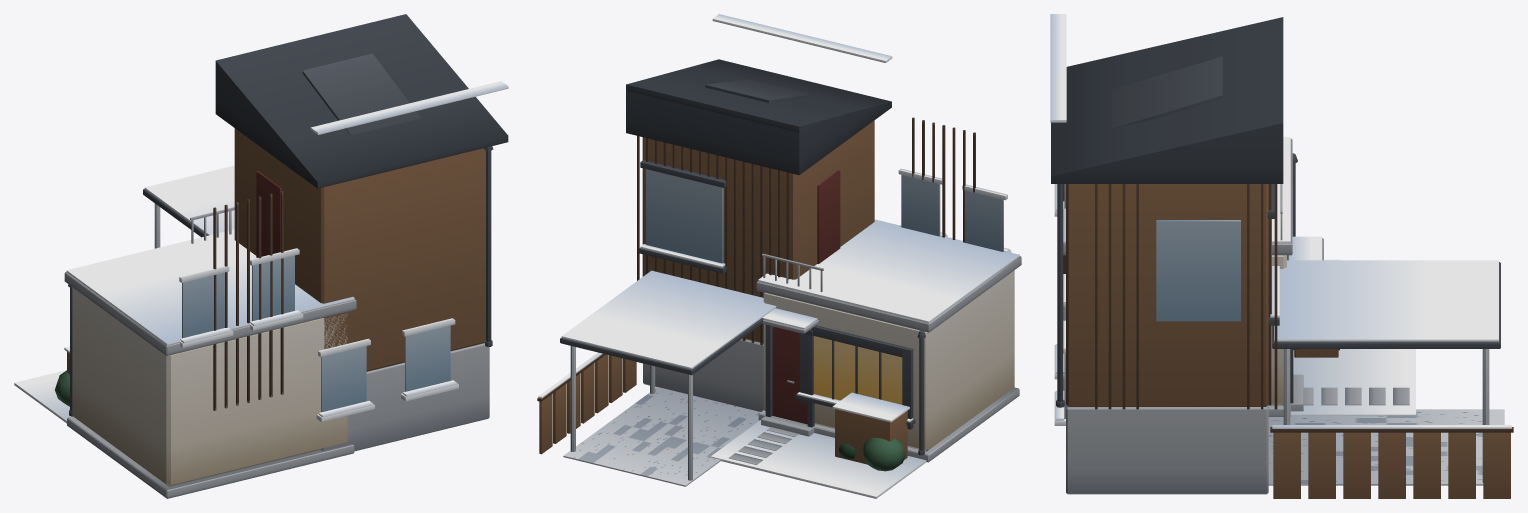
Rendered from ck_house_split_level.fbx.
3 renders of one model, left to right at view 1: azimuth 30°, elevation 25°; view 2: azimuth 150°, elevation 25°; view 3: azimuth 270°, elevation 25°, orthographic. The views are drawn at different scales.
Parts seen in each view (by area): view 1: ck_house_split_level; view 2: ck_house_split_level; view 3: ck_house_split_level.
Part boxes in pixels (bbox=[...]): ck_house_split_level: bbox=[14, 14, 508, 498]; ck_house_split_level: bbox=[537, 14, 1021, 498]; ck_house_split_level: bbox=[1050, 14, 1513, 498].
Size of the model in its own units: 2396 by 2276 by 2500.
